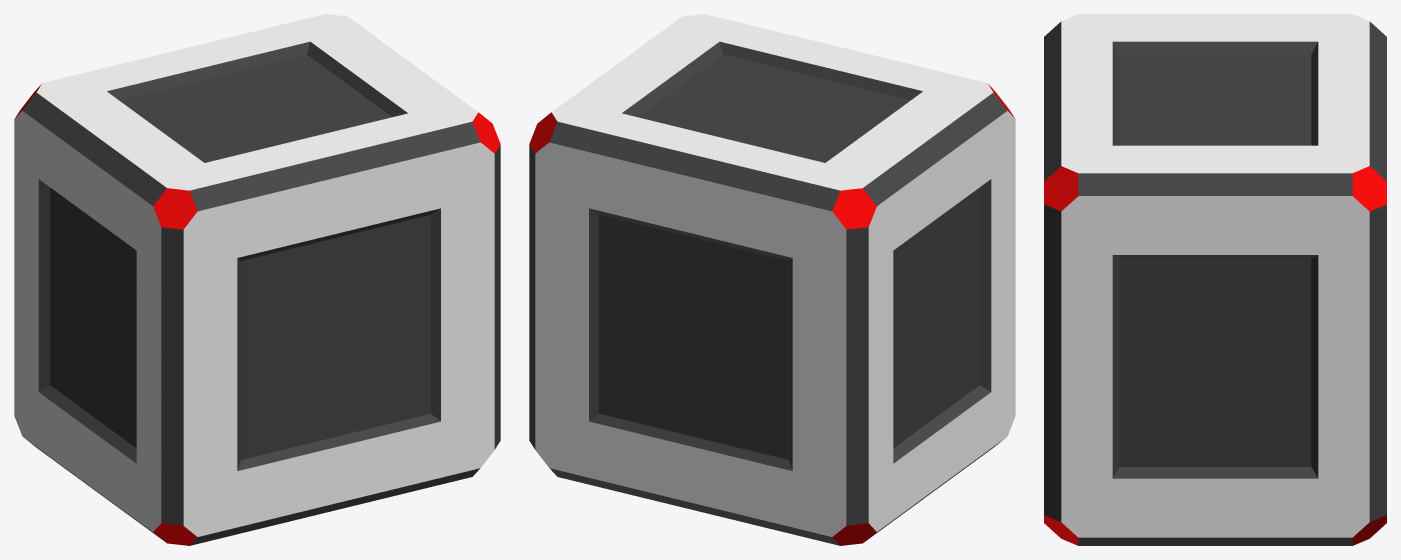
The model's file is mineralContainer.obj.
3 renders of one model, left to right at view 1: azimuth 30°, elevation 25°; view 2: azimuth 150°, elevation 25°; view 3: azimuth 270°, elevation 25°, orthographic. The views are drawn at different scales.
Parts seen in each view (by area): view 1: Box002; view 2: Box002; view 3: Box002.
Part boxes in pixels (x1,y1,x2,y2): Box002: (14,14,500,545); Box002: (529,14,1015,545); Box002: (1044,14,1386,545).
Bounding box in the file's own units: 1.2 × 1.2 × 1.
